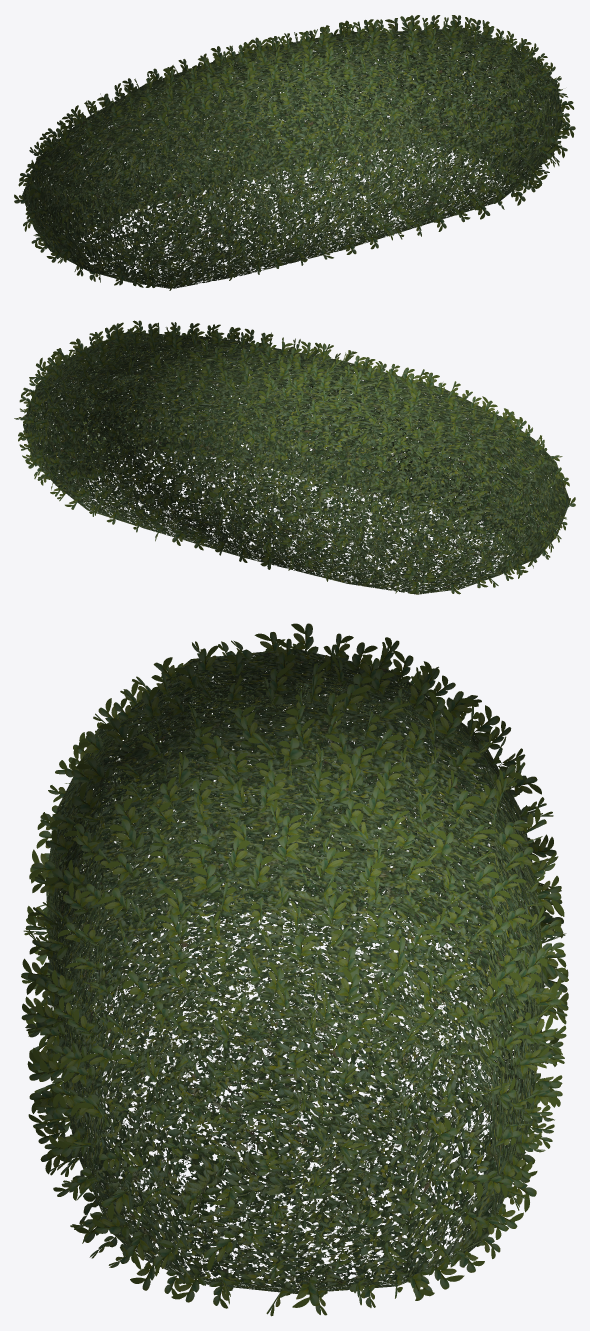
File: jctHedgeC.fbx
3 renders of one model, top to bottom at view 1: azimuth 30°, elevation 25°; view 2: azimuth 150°, elevation 25°; view 3: azimuth 270°, elevation 25°, orthographic. The views are drawn at different scales.
Visible parts, largest first — view 1: jctHedgeC_LOD0; view 2: jctHedgeC_LOD0; view 3: jctHedgeC_LOD0.
Part boxes in pixels (box(x1,y1,x2,y2)): jctHedgeC_LOD0: box(14, 15, 575, 290); jctHedgeC_LOD0: box(14, 320, 575, 594); jctHedgeC_LOD0: box(21, 623, 568, 1316).
Bounding box in the file's own units: 369 × 110 × 168.
